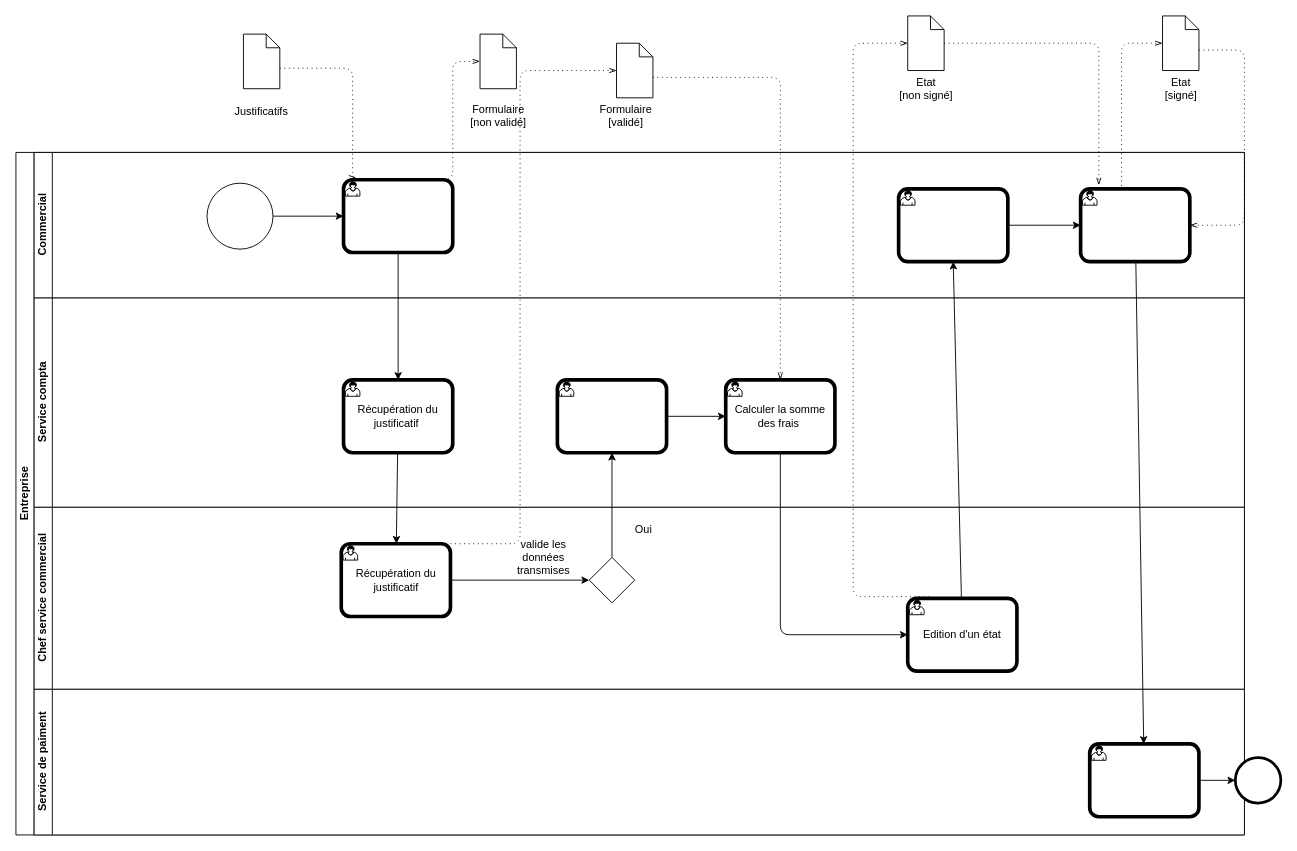
The diagram is 1297 pixels wide and 851 high, and some of its shapes have lost their labels. Each missing label, with the centre of its shape:
Joindre les justificatifs: (x=398, y=216)
Payer le commercial: (x=1144, y=780)
Saisir les informations présentent dans le formulaire: (x=611, y=416)
Signer l'état: (x=1135, y=225)
Vérifier l'état: (x=953, y=225)
